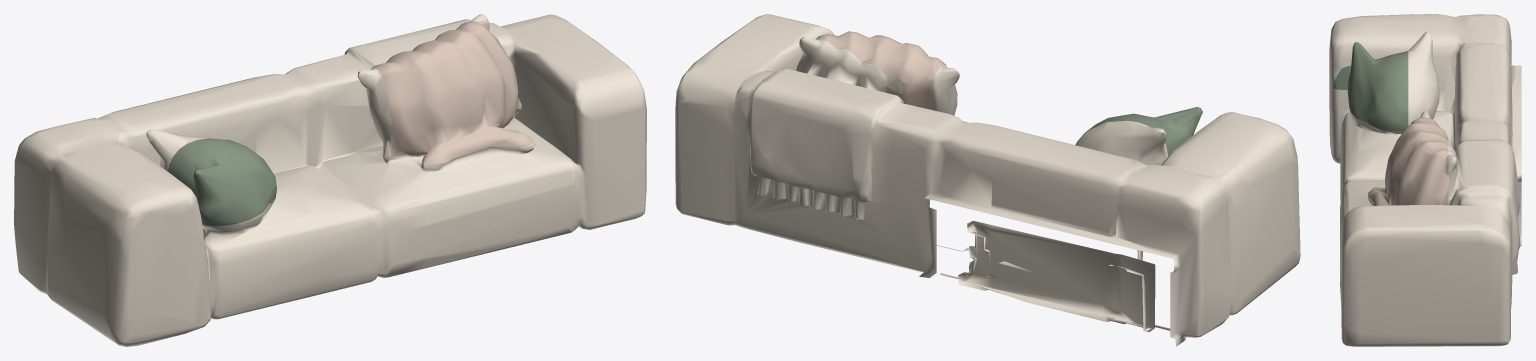
The model's file is show_living_sofa.glb.
The picture shows the model from 3 angles, left to right: view 1: azimuth 30°, elevation 25°; view 2: azimuth 150°, elevation 25°; view 3: azimuth 270°, elevation 25°; orthographic projection. The views are drawn at different scales.
Size of the model in its own units: 3.7 by 1.2 by 1.35.
